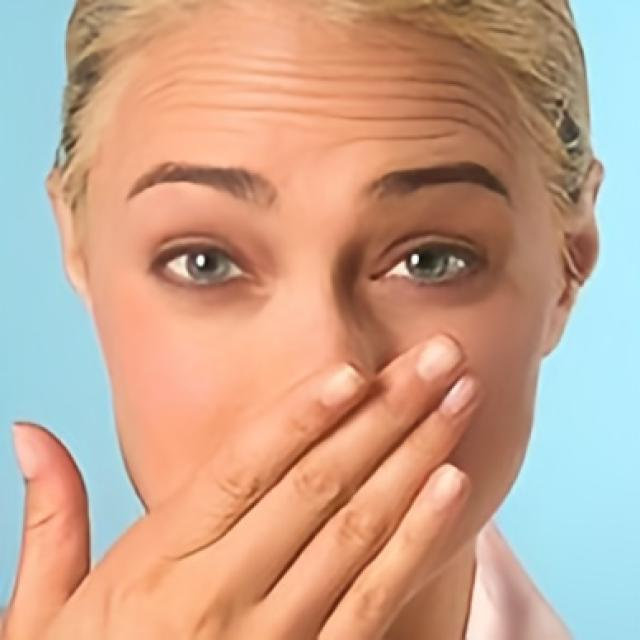surprise: (96, 8, 554, 579)
